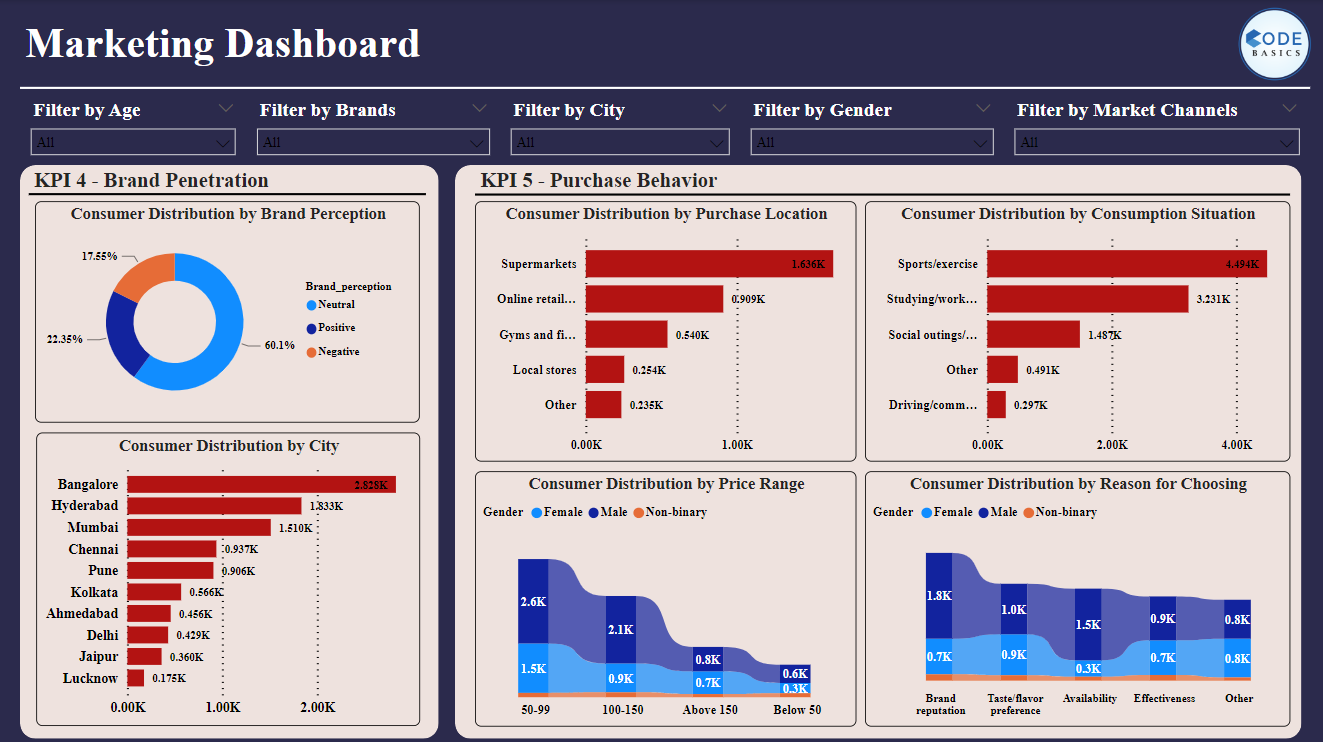

The dashboard page shown, as its layout file describes it:
{"tool":"powerbi","page":{"name":"Page 2","canvas":[1280,720],"ordinal":1},"visuals":[{"type":"slicer","fields":{"Values":["dim_cities.City"]},"box":[482.4,90.5,231.6,68.7],"z":0,"group":"g1"},{"type":"shape","box":[19.3,159.2,404,553.6],"z":0},{"type":"slicer","fields":{"Values":["dim_respondents.Gender"]},"box":[714,90.5,254.5,68.7],"z":1000,"group":"g1"},{"type":"shape","box":[18.8,78.8,1245,12.5],"z":1000},{"type":"slicer","fields":{"Values":["fact_survey_responses.Marketing_channels"]},"box":[968.4,90.5,295.5,68.7],"z":2000,"group":"g1"},{"type":"shape","box":[439,159.2,816.5,553.6],"z":2000},{"type":"slicer","fields":{"Values":["fact_survey_responses.Current_brands"]},"box":[237.6,90.5,244.8,68.7],"z":3000,"group":"g1"},{"type":"image","box":[1179.5,0,100.1,85],"z":3000},{"type":"slicer","fields":{"Values":["dim_respondents.Age"]},"box":[19.3,90.5,218.3,68.7],"z":4000,"group":"g1"},{"type":"textbox","title":"Marketing Dashboard","box":[19.3,18.1,393.2,49.4],"z":4000},{"type":"shape","box":[27.7,181.2,383.5,12.7],"z":5000},{"type":"donutChart","title":"Consumer Distribution by Brand Perception","fields":{"Y":["Key Measures.Total Respondents"],"Category":["fact_survey_responses.Brand_perception"]},"box":[33.8,194.2,371.5,213.5],"z":6000},{"type":"barChart","title":"Consumer Distribution by City","fields":{"Category":["dim_cities.City"],"Y":["CountNonNull(fact_survey_responses.Response_ID)"]},"box":[35,417.3,370.3,283.4],"z":7000},{"type":"textbox","title":"KPI 4 - Brand Penetration","box":[27.7,162.8,299.1,26.5],"z":8000},{"type":"barChart","title":"Consumer Distribution by Consumption Situation","fields":{"Category":["fact_survey_responses.Typical_consumption_situations"],"Y":["CountNonNull(fact_survey_responses.Response_ID)"]},"box":[834.6,194.2,410.1,250.9],"z":9000},{"type":"shape","box":[458.3,180.9,786.3,13.3],"z":10000},{"type":"textbox","title":"KPI 5 - Purchase Behavior","box":[458.3,162.8,605.4,26.5],"z":11000},{"type":"barChart","title":"Consumer Distribution by Purchase Location","fields":{"Category":["fact_survey_responses.Purchase_location"],"Y":["CountNonNull(fact_survey_responses.Response_ID)"]},"box":[458.3,194.2,367.8,250.9],"z":12000},{"type":"ribbonChart","title":"Consumer Distribution by Price Range","fields":{"Category":["fact_survey_responses.Price_range"],"Y":["CountNonNull(fact_survey_responses.Response_ID)"],"Series":["dim_respondents.Gender"]},"box":[458.3,454.7,367.8,246],"z":13000},{"type":"ribbonChart","title":"Consumer Distribution by Reason for Choosing","fields":{"Y":["CountNonNull(fact_survey_responses.Response_ID)"],"Series":["dim_respondents.Gender"],"Category":["fact_survey_responses.Reasons_for_choosing_brands"]},"box":[834.6,454.7,410.1,246],"z":14000},{"type":"group","id":"g1","title":"Group 1","box":[19.3,90.5,1244.6,68.7],"z":15000}]}

Visuals, with their boxes in screenshot pixels (x1, y1, x2, y2), scaled from the page's 1280x720 canvas onto the 1323x742 screenshot:
slicer - dim_cities.City: 499,93,738,164
shape: 20,164,438,735
slicer - dim_respondents.Gender: 738,93,1001,164
shape: 19,81,1306,94
slicer - fact_survey_responses.Marketing_channels: 1001,93,1306,164
shape: 454,164,1298,735
slicer - fact_survey_responses.Current_brands: 246,93,499,164
image: 1219,0,1322,88
slicer - dim_respondents.Age: 20,93,246,164
"Marketing Dashboard" textbox: 20,19,426,70
shape: 29,187,425,200
"Consumer Distribution by Brand Perception" donutChart: 35,200,419,420
"Consumer Distribution by City" barChart: 36,430,419,722
"KPI 4 - Brand Penetration" textbox: 29,168,338,195
"Consumer Distribution by Consumption Situation" barChart: 863,200,1287,459
shape: 474,186,1286,200
"KPI 5 - Purchase Behavior" textbox: 474,168,1099,195
"Consumer Distribution by Purchase Location" barChart: 474,200,854,459
"Consumer Distribution by Price Range" ribbonChart: 474,469,854,722
"Consumer Distribution by Reason for Choosing" ribbonChart: 863,469,1287,722
"Group 1" group: 20,93,1306,164
